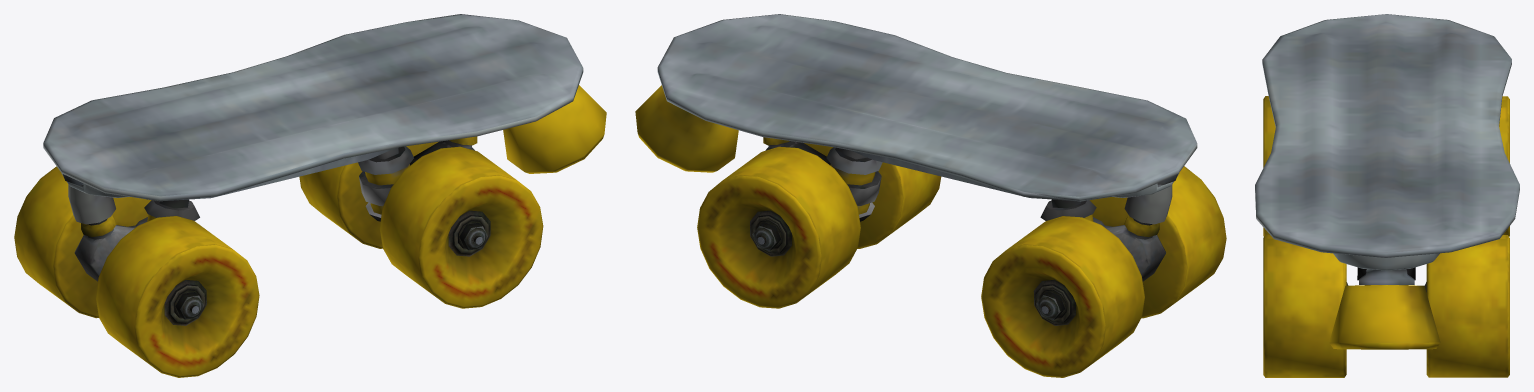
The model's file is rollerskate.obj.
The picture shows the model from 3 angles, left to right: view 1: azimuth 30°, elevation 25°; view 2: azimuth 150°, elevation 25°; view 3: azimuth 270°, elevation 25°; orthographic projection.
Parts seen in each view (by area): view 1: skate, wheel; view 2: skate, wheel; view 3: skate, wheel.
Boxes of the visible parts, x1=… form: skate: x1=43, y1=14, x2=606, y2=281; wheel: x1=14, y1=141, x2=543, y2=377; skate: x1=635, y1=14, x2=1197, y2=281; wheel: x1=697, y1=143, x2=1226, y2=377; skate: x1=1255, y1=14, x2=1519, y2=349; wheel: x1=1263, y1=96, x2=1509, y2=377.
Bounding box in the file's own units: 4.23 × 1.44 × 1.81.
2 materials, 2 textured.
